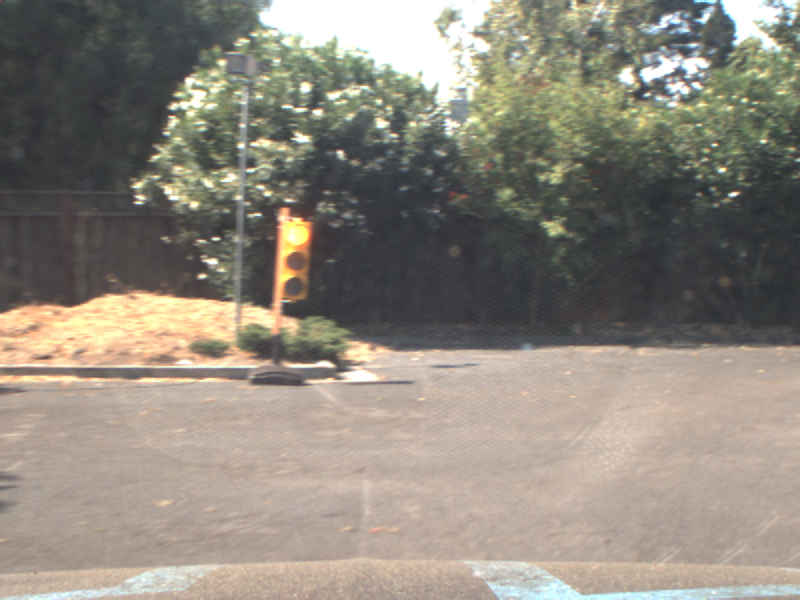red: (275, 212, 309, 302)
